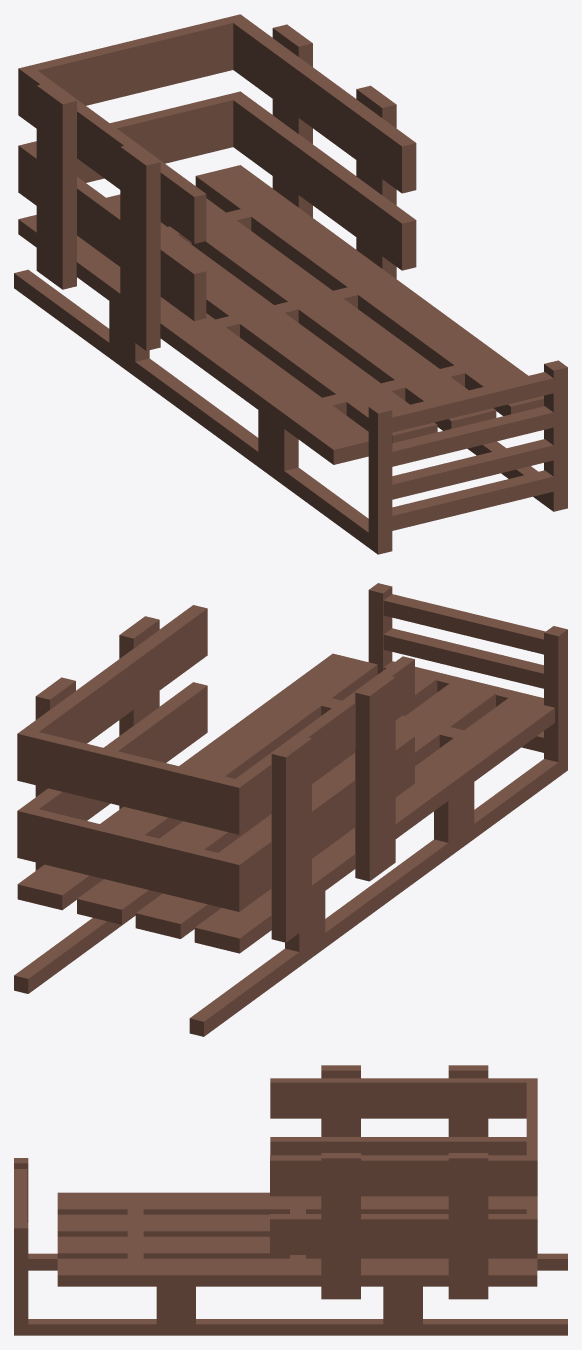
The model's file is 070 Buggy.fbx.
The picture shows the model from 3 angles, top to bottom: view 1: azimuth 30°, elevation 25°; view 2: azimuth 150°, elevation 25°; view 3: azimuth 270°, elevation 25°; orthographic projection. The views are drawn at different scales.
Parts seen in each view (by area): view 1: Lowpoly_Christmas_Pack_070:pCube24; view 2: Lowpoly_Christmas_Pack_070:pCube24; view 3: Lowpoly_Christmas_Pack_070:pCube24.
Part boxes in pixels (left/top/right/bottom): Lowpoly_Christmas_Pack_070:pCube24: left=14, top=14, right=567, bottom=554; Lowpoly_Christmas_Pack_070:pCube24: left=14, top=583, right=567, bottom=1036; Lowpoly_Christmas_Pack_070:pCube24: left=14, top=1065, right=567, bottom=1335.
Bounding box in the file's own units: 1.07 × 1.01 × 2.69.
